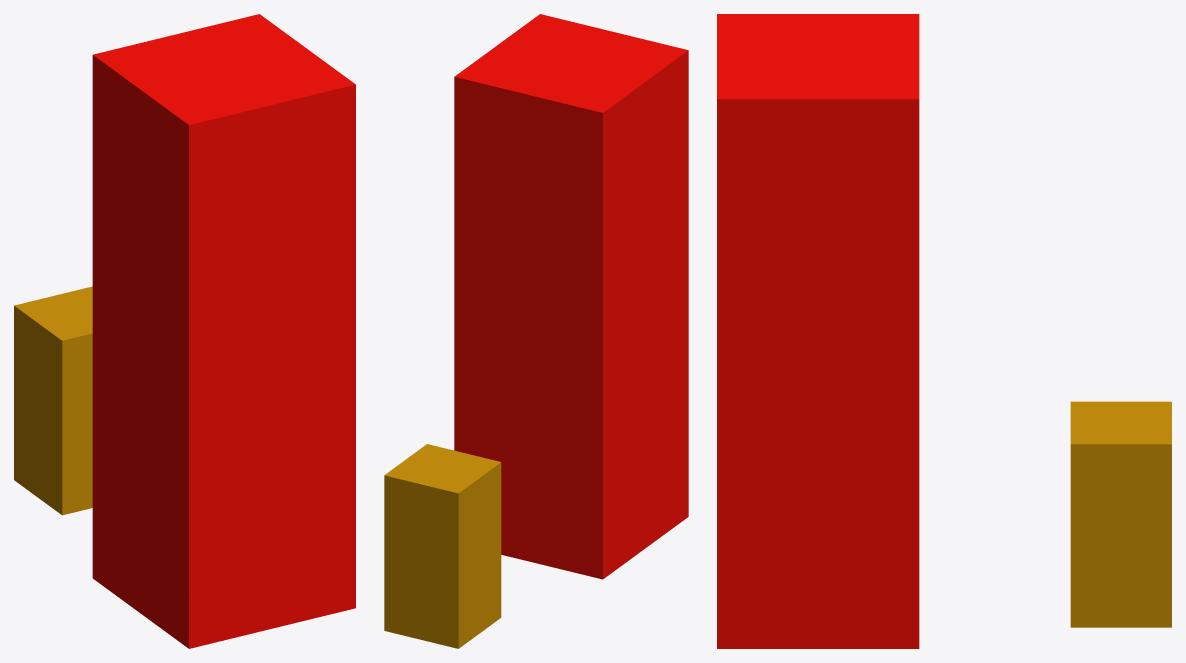
Rendered from LokiScale.fbx.
3 views of the same model, side by side, from view 1: azimuth 30°, elevation 25°; view 2: azimuth 150°, elevation 25°; view 3: azimuth 270°, elevation 25° (orthographic). The views are drawn at different scales.
Visible parts, largest first — view 1: Body, Player; view 2: Body, Player; view 3: Body, Player.
Part boxes in pixels (box(x1,y1,x2,y2)): Body: box(92, 14, 355, 648); Player: box(14, 286, 92, 515); Body: box(454, 14, 688, 579); Player: box(384, 444, 501, 648); Body: box(717, 14, 919, 648); Player: box(1070, 401, 1171, 627).
Size of what is drawn, in the model's own units: 200 by 600 by 450.
